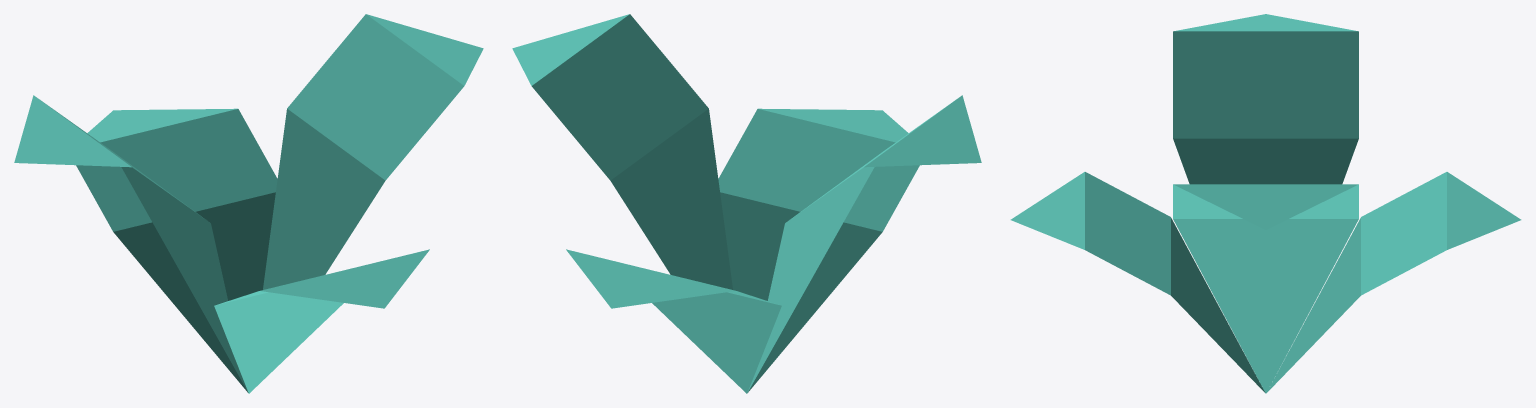
The model's file is plant_bush.obj.
The picture shows the model from 3 angles, left to right: view 1: azimuth 30°, elevation 25°; view 2: azimuth 150°, elevation 25°; view 3: azimuth 270°, elevation 25°; orthographic projection. The views are drawn at different scales.
Visible parts, largest first — view 1: plant_bush; view 2: plant_bush; view 3: plant_bush.
Part boxes in pixels (left/top/right/bottom): plant_bush: left=14, top=14, right=483, bottom=393; plant_bush: left=512, top=14, right=981, bottom=393; plant_bush: left=1010, top=14, right=1521, bottom=393.
Bounding box in the file's own units: 3.96 × 2.44 × 3.96.
